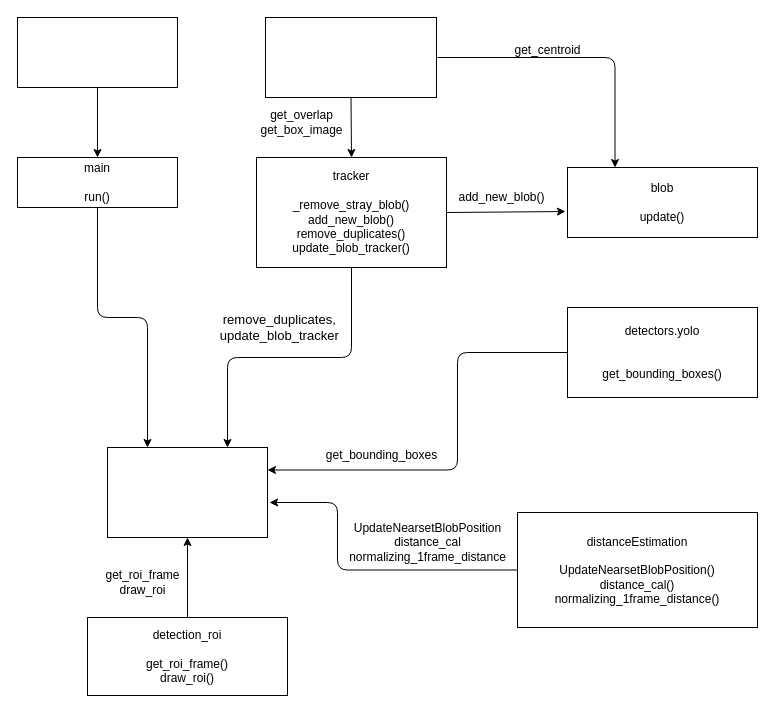
Image size: 775x713. Some labels were removed from this diagram. The centre of each missing label's shape, as x and y in pixels:
"bounding_box get_overlap() get_box_image() get_centroid()" belongs at pixel 350 57.
"CoordinateStore mouse_callback() capture_pixel_position()" belongs at pixel 97 52.
"VechicleCounter count() visualize()" belongs at pixel 187 492.
